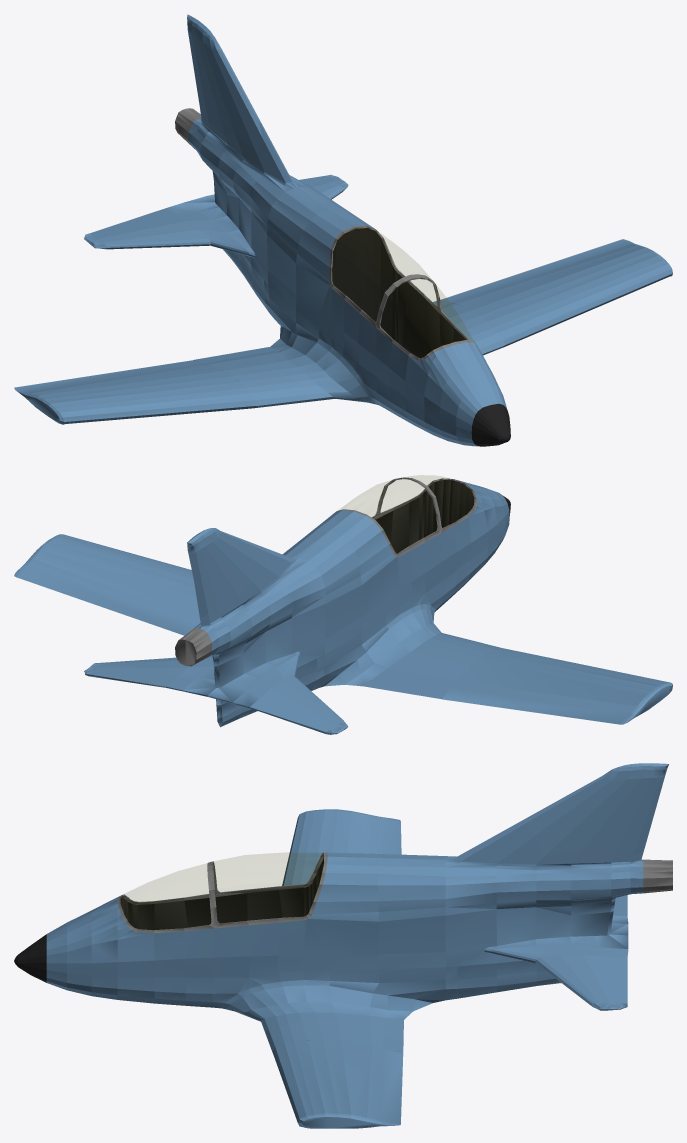
The model's file is aircraft_14-2.glb.
3 views of the same model, one above another, from view 1: azimuth 30°, elevation 25°; view 2: azimuth 150°, elevation 25°; view 3: azimuth 270°, elevation 25° (orthographic). The views are drawn at different scales.
Parts seen in each view (by area): view 1: fuselage, left wing, right wing, tail, broken vertical stabiliser section, broken right wing section, broken left wing section, broken horizontal stabiliser section; view 2: fuselage, right wing, left wing, tail, broken vertical stabiliser section, broken right wing section, broken horizontal stabiliser section; view 3: fuselage, left wing, broken vertical stabiliser section, right wing, tail, broken horizontal stabiliser section, broken left wing section.
Boxes of the visible parts, left/top/right/bottom form: fuselage: left=175, top=19, right=510, bottom=446; left wing: left=442, top=239, right=672, bottom=347; right wing: left=14, top=360, right=256, bottom=424; tail: left=105, top=187, right=343, bottom=257; broken vertical stabiliser section: left=187, top=14, right=263, bottom=150; broken right wing section: left=193, top=352, right=307, bottom=407; broken left wing section: left=433, top=299, right=504, bottom=355; broken horizontal stabiliser section: left=84, top=174, right=348, bottom=249; fuselage: left=175, top=475, right=510, bottom=727; right wing: left=441, top=648, right=672, bottom=724; left wing: left=14, top=534, right=200, bottom=635; tail: left=165, top=651, right=342, bottom=723; broken vertical stabiliser section: left=187, top=528, right=269, bottom=618; broken right wing section: left=394, top=637, right=502, bottom=698; broken horizontal stabiliser section: left=84, top=657, right=348, bottom=734; fuselage: left=14, top=763, right=672, bottom=1039; left wing: left=272, top=1040, right=403, bottom=1128; broken vertical stabiliser section: left=523, top=763, right=668, bottom=858; right wing: left=282, top=809, right=401, bottom=885; tail: left=484, top=896, right=628, bottom=1004; broken horizontal stabiliser section: left=556, top=895, right=627, bottom=1010; broken left wing section: left=265, top=1020, right=403, bottom=1052.
Size of the model in its own units: 7.51 by 2.73 by 6.81.
